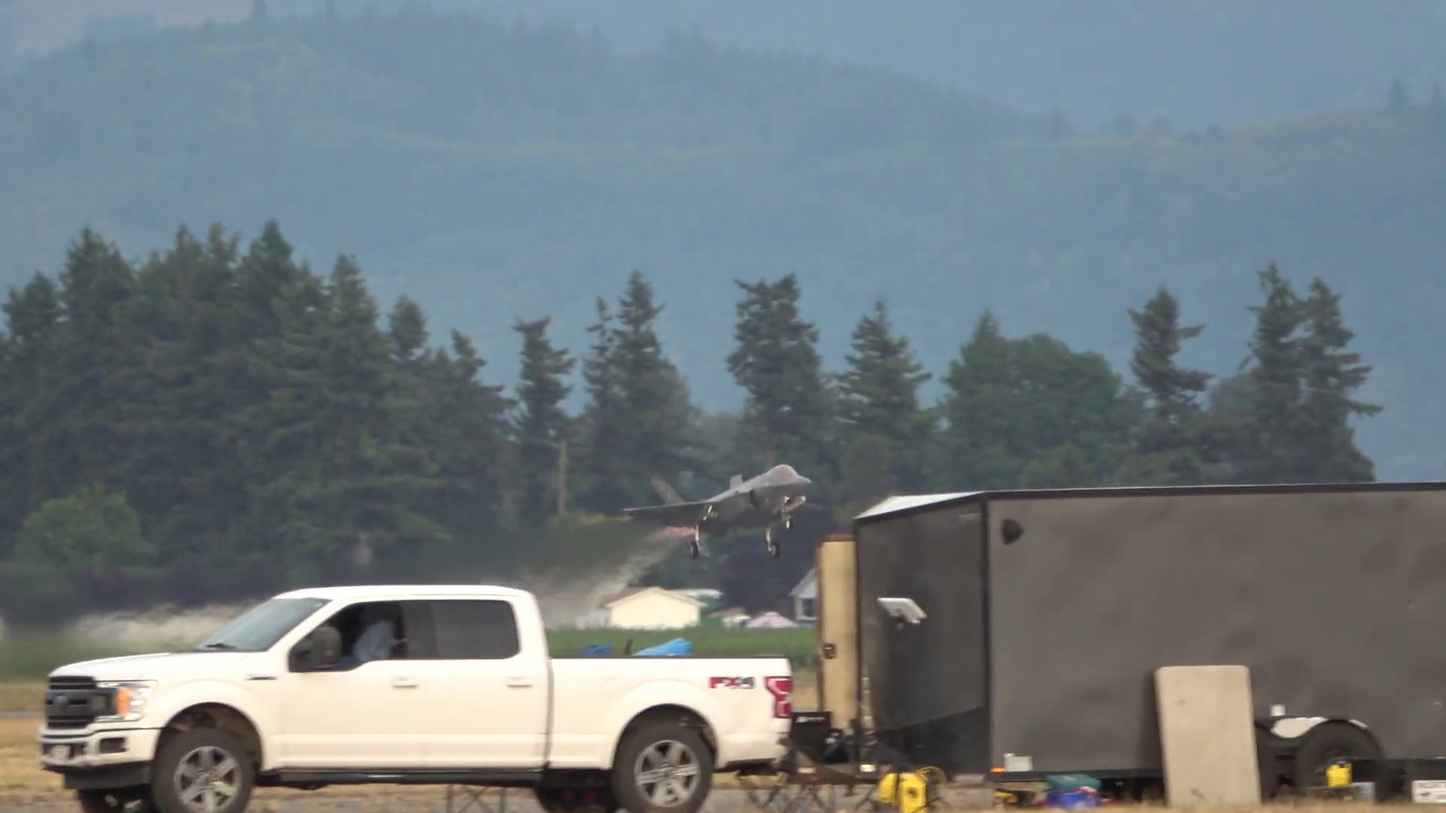F35: (620, 464, 812, 561)
